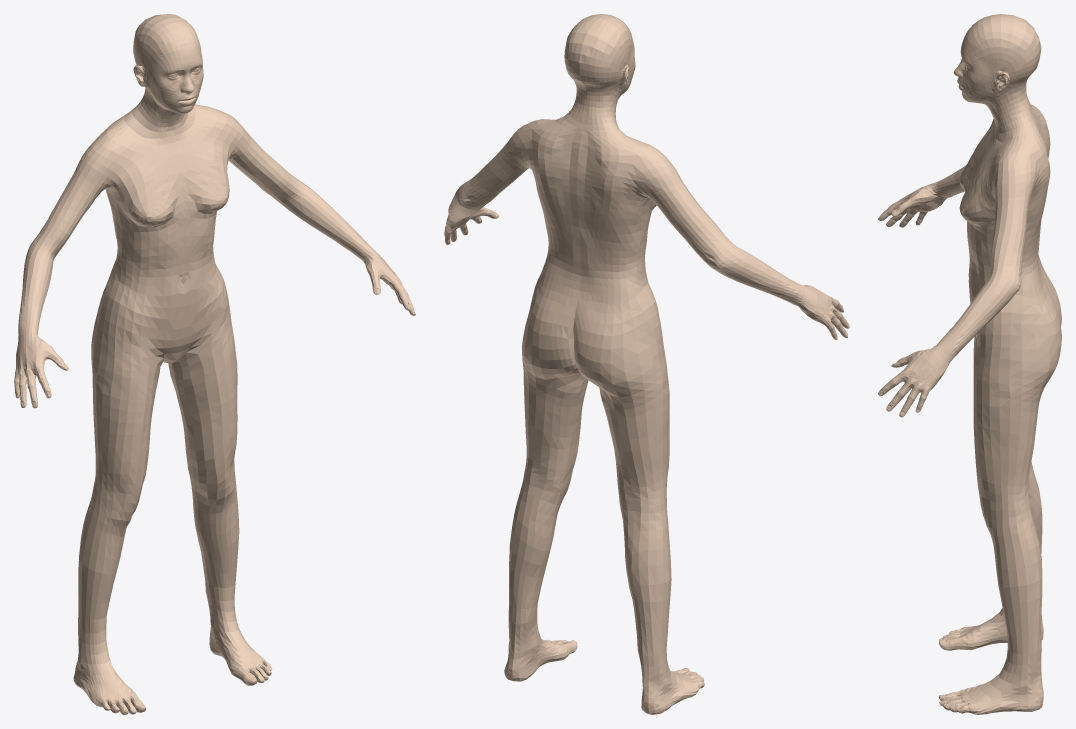
The model's file is female-mature-lean-medium.glb.
The picture shows the model from 3 angles, left to right: view 1: azimuth 30°, elevation 25°; view 2: azimuth 150°, elevation 25°; view 3: azimuth 270°, elevation 25°; orthographic projection.
Visible parts, largest first — view 1: world; view 2: world; view 3: world.
Boxes of the visible parts, x1,y1,x2,y2 form: world: (14,14,415,714); world: (444,14,849,714); world: (878,14,1061,714).
Size of the model in its own units: 1.12 by 1.81 by 0.4573.
